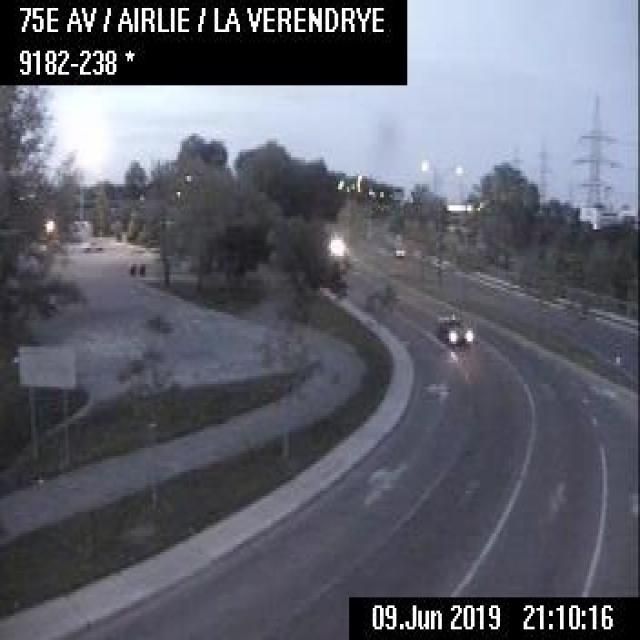vehicle: (434, 312, 472, 349), (392, 242, 406, 256)
